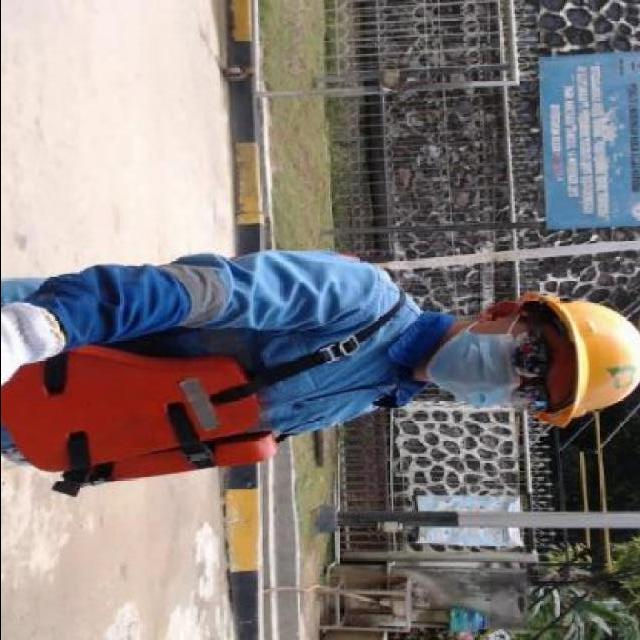helmet: (525, 290, 640, 426)
vest: (0, 256, 424, 498)
